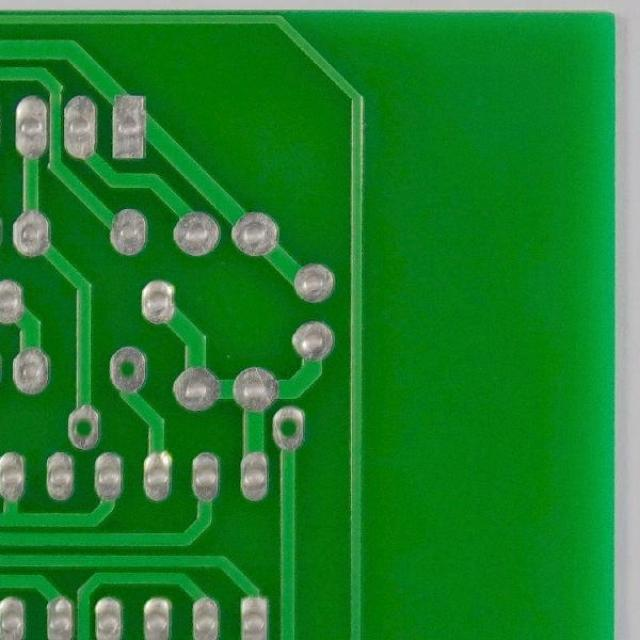Missing_Hole: (104, 344, 150, 396), (63, 402, 101, 452), (268, 404, 307, 452)
